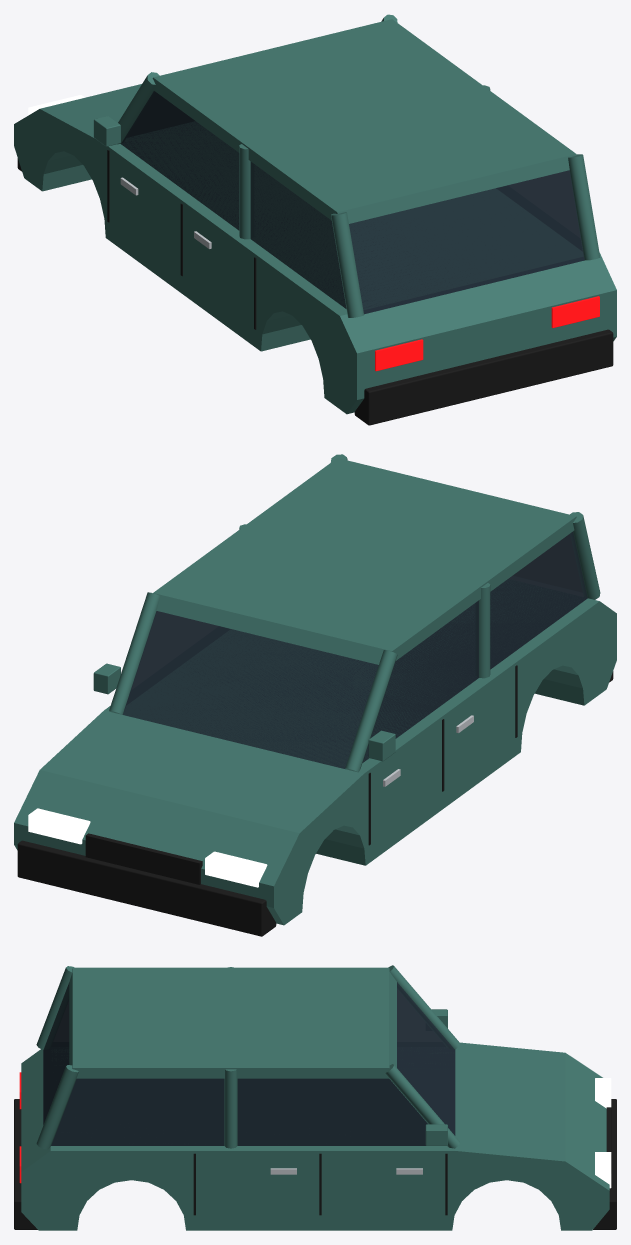
Rendered from vehicle_car.glb.
The picture shows the model from 3 angles, top to bottom: view 1: azimuth 30°, elevation 25°; view 2: azimuth 150°, elevation 25°; view 3: azimuth 270°, elevation 25°; orthographic projection. The views are drawn at different scales.
Visible parts, largest first — view 1: car; view 2: car; view 3: car.
Part boxes in pixels (box(x1,y1,x2,y2)): car: box(14, 14, 616, 425); car: box(14, 454, 616, 936); car: box(14, 965, 616, 1230).
Bounding box in the file's own units: 1.95 × 1.23 × 4.1.
